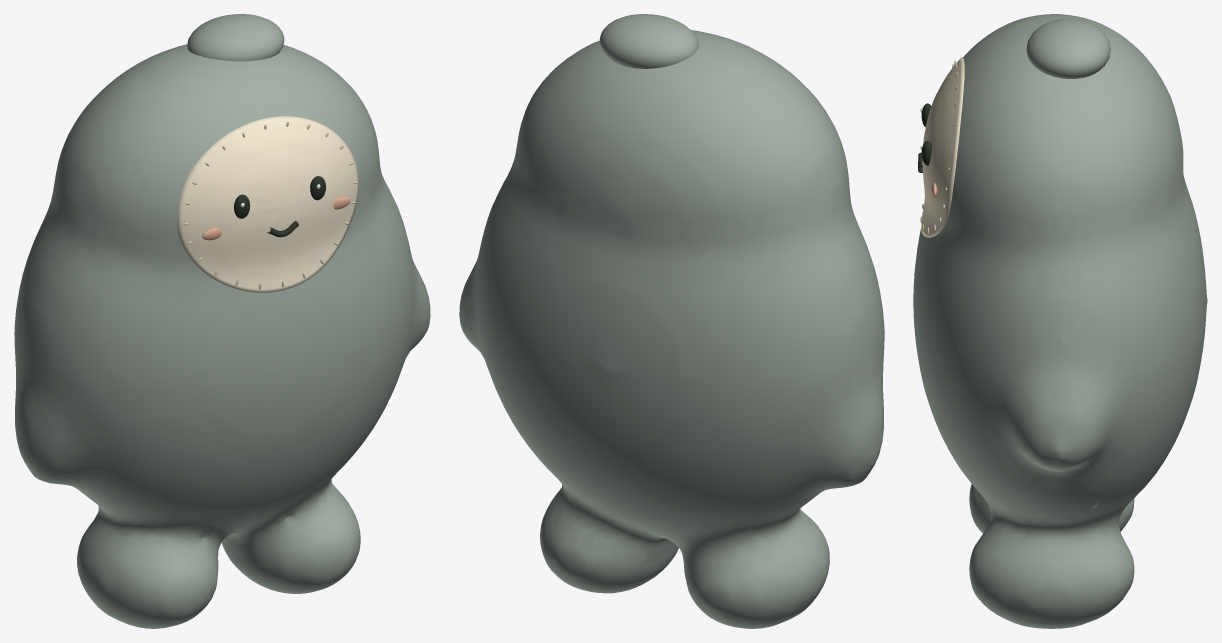
File: pebble-atelier-v3.glb
3 renders of one model, left to right at view 1: azimuth 30°, elevation 25°; view 2: azimuth 150°, elevation 25°; view 3: azimuth 270°, elevation 25°, orthographic. The views are drawn at different scales.
Parts seen in each view (by area): view 1: Pebble continuous body, Linen face panel, Little crown pebble; view 2: Pebble continuous body, Little crown pebble; view 3: Pebble continuous body, Linen face panel, Little crown pebble.
Boxes of the visible parts, box(x1,y1,x2,y2) form: Pebble continuous body: box(14, 44, 430, 628); Linen face panel: box(176, 116, 358, 292); Little crown pebble: box(187, 14, 284, 61); Pebble continuous body: box(459, 30, 884, 628); Little crown pebble: box(599, 14, 698, 68); Pebble continuous body: box(913, 14, 1207, 628); Linen face panel: box(921, 57, 964, 237); Little crown pebble: box(1026, 18, 1110, 78).
Size of the model in its own units: 1.33 by 1.79 by 0.8329.
